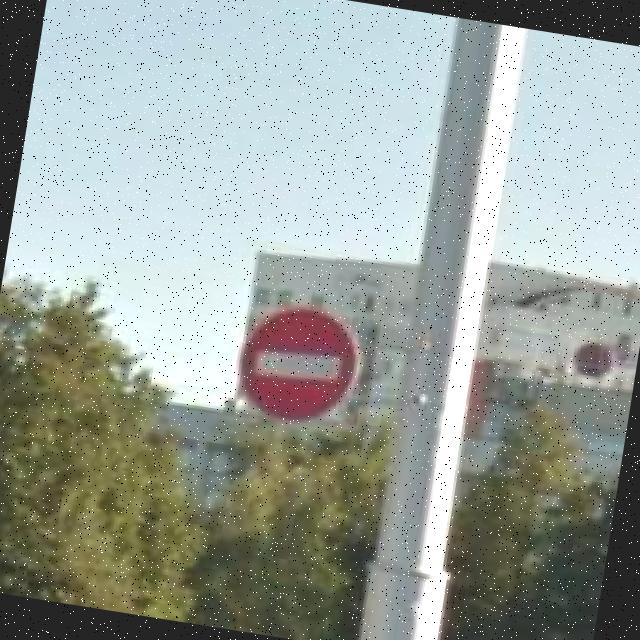Zakaz wjazdu: (228, 295, 368, 435)
